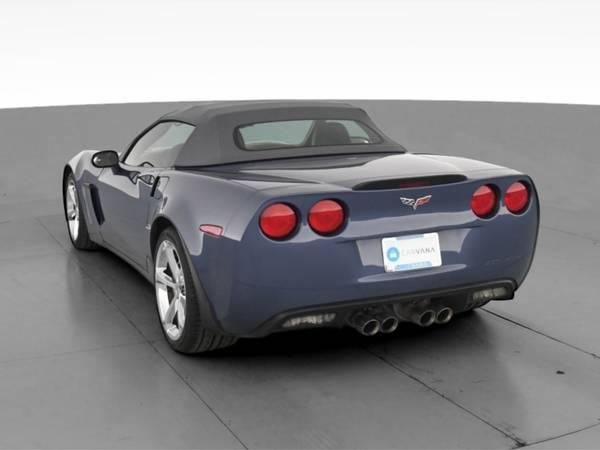Front_Fender: (63, 152, 105, 245)
Front_Left_Door: (93, 162, 169, 282)
Front_Left_Window: (126, 123, 199, 170)
Left_Taillight: (255, 190, 354, 244)
Rear_Bumper: (228, 212, 539, 329)
Rear_Fender: (152, 172, 270, 320)
Rear_Windshield: (238, 119, 384, 161)
Right_Taillight: (468, 175, 539, 222)
Roof: (123, 98, 409, 165)
Tailgate: (182, 151, 526, 238)
Wheel: (156, 235, 207, 355), (61, 179, 84, 252)
